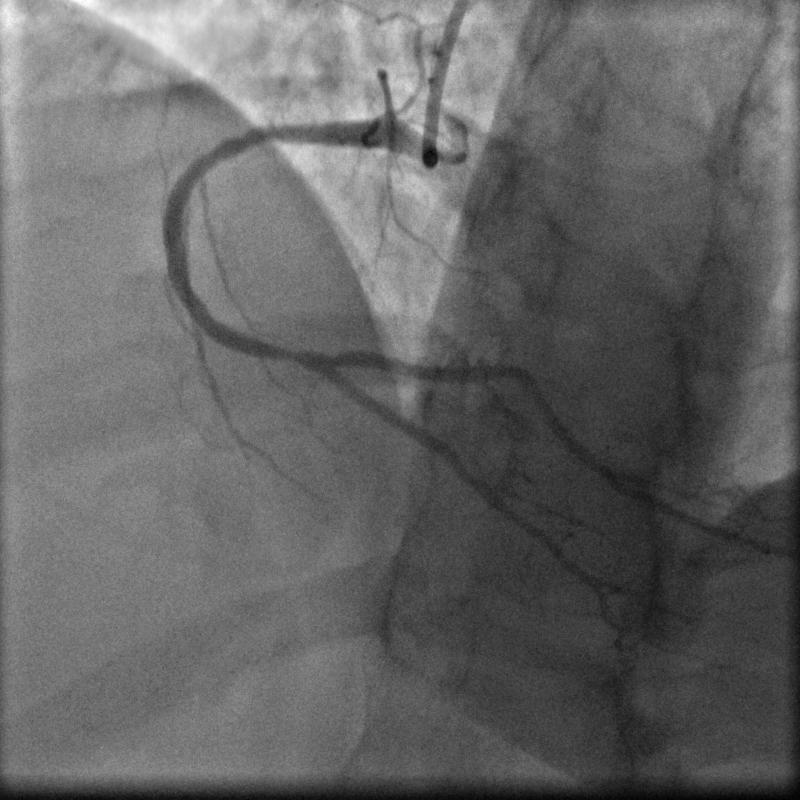Stenosis: (273, 337, 309, 372)
